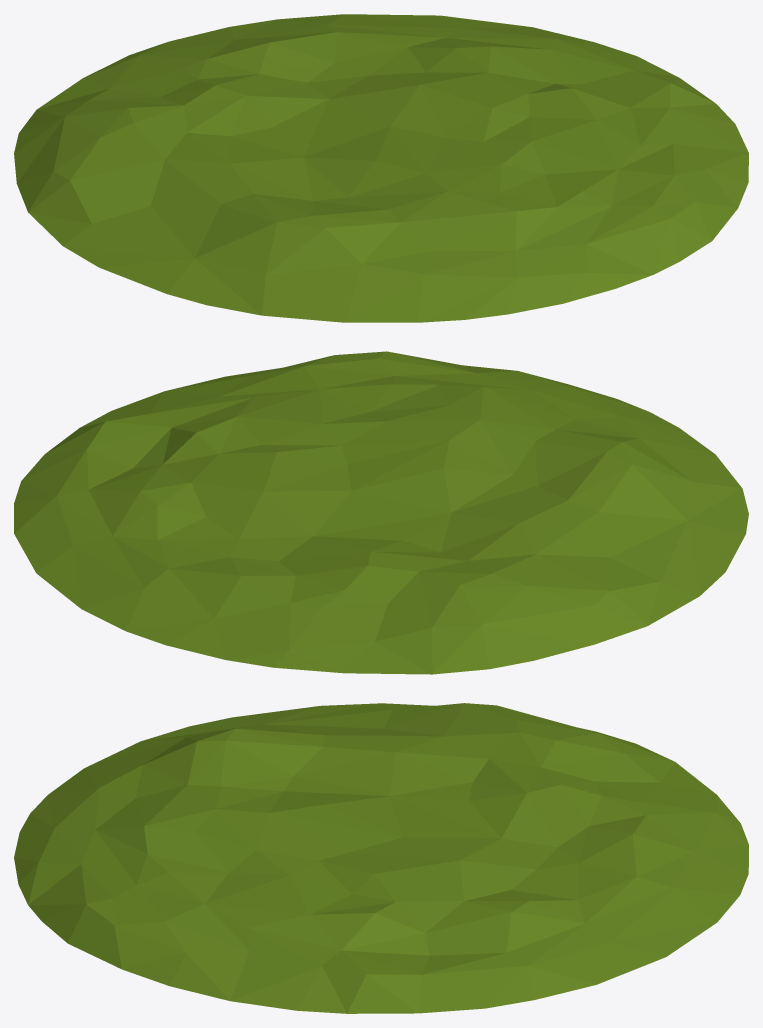
Rendered from Ground_B_01.fbx.
The picture shows the model from 3 angles, top to bottom: view 1: azimuth 30°, elevation 25°; view 2: azimuth 150°, elevation 25°; view 3: azimuth 270°, elevation 25°; orthographic projection.
Parts seen in each view (by area): view 1: Ground_B_01; view 2: Ground_B_01; view 3: Ground_B_01.
Boxes of the visible parts, <box> form: Ground_B_01: <box>14,14,748,322</box>; Ground_B_01: <box>14,351,748,674</box>; Ground_B_01: <box>14,703,748,1013</box>.
Size of the model in its own units: 19.08 by 1.31 by 19.08.
